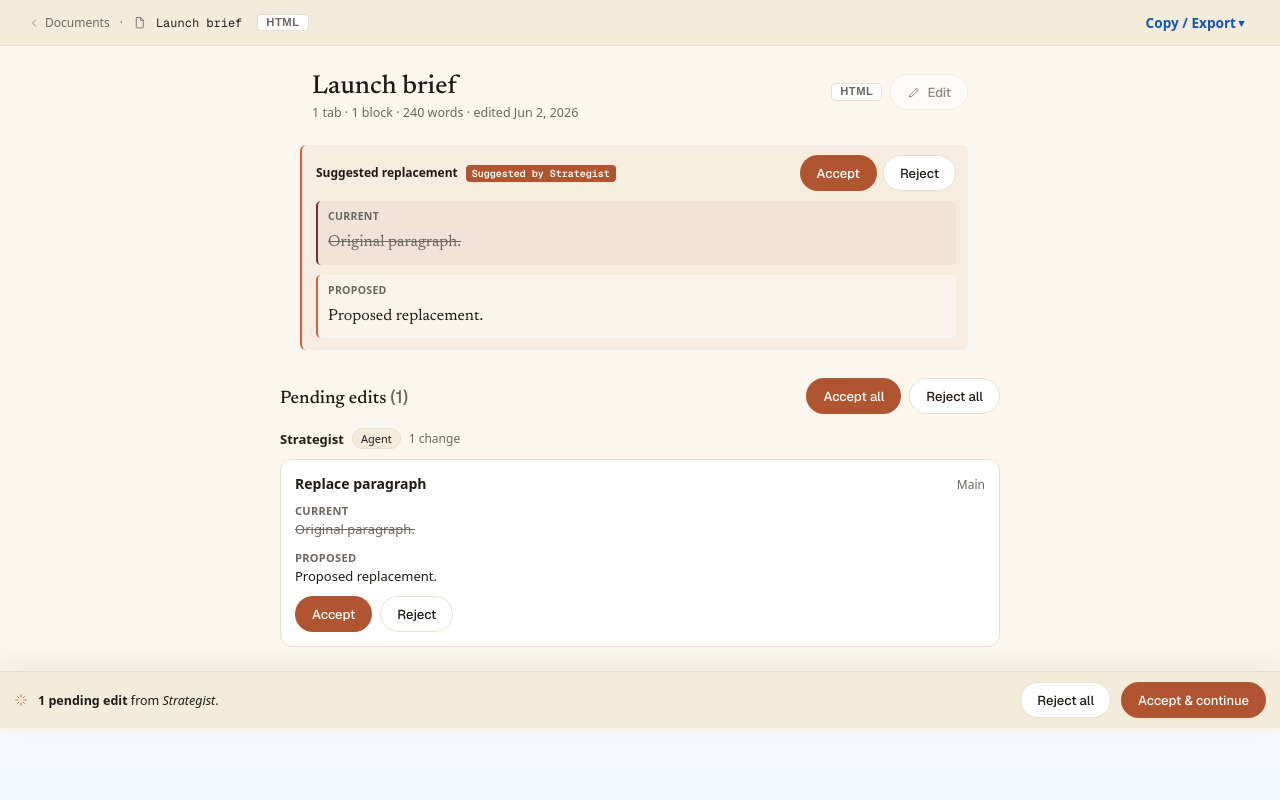
DocumentDetailPage › rejects a pending edit: clears the edit, leaves the block unchanged
Check: the heading "Pending edits (1)" is shown, box [280,384,408,408]
Click the button with aria-label "Reject inline suggested replacement": (919, 173) [883,155,956,191]
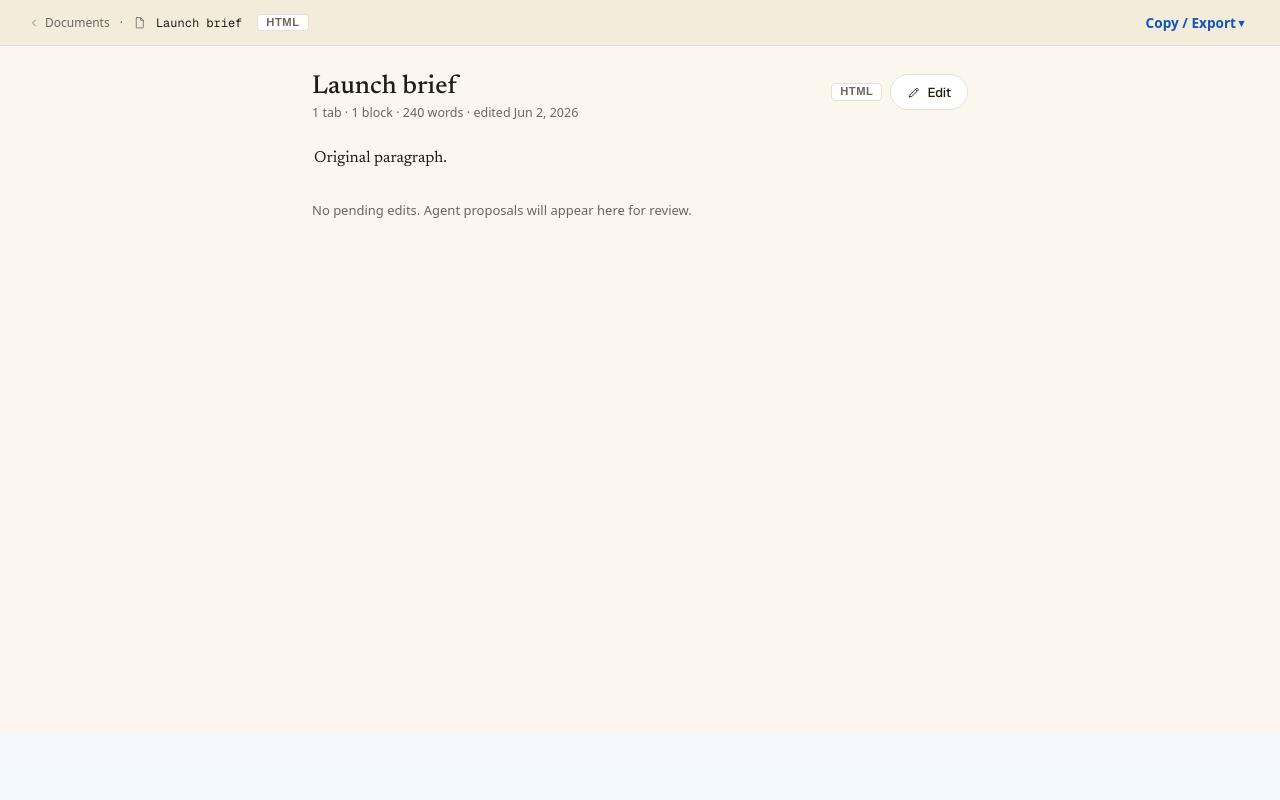
Check: the text "Original paragraph." is shown, box [314,150,447,166]
Check: the text "No pending edits" is shown, box [312,200,692,218]
